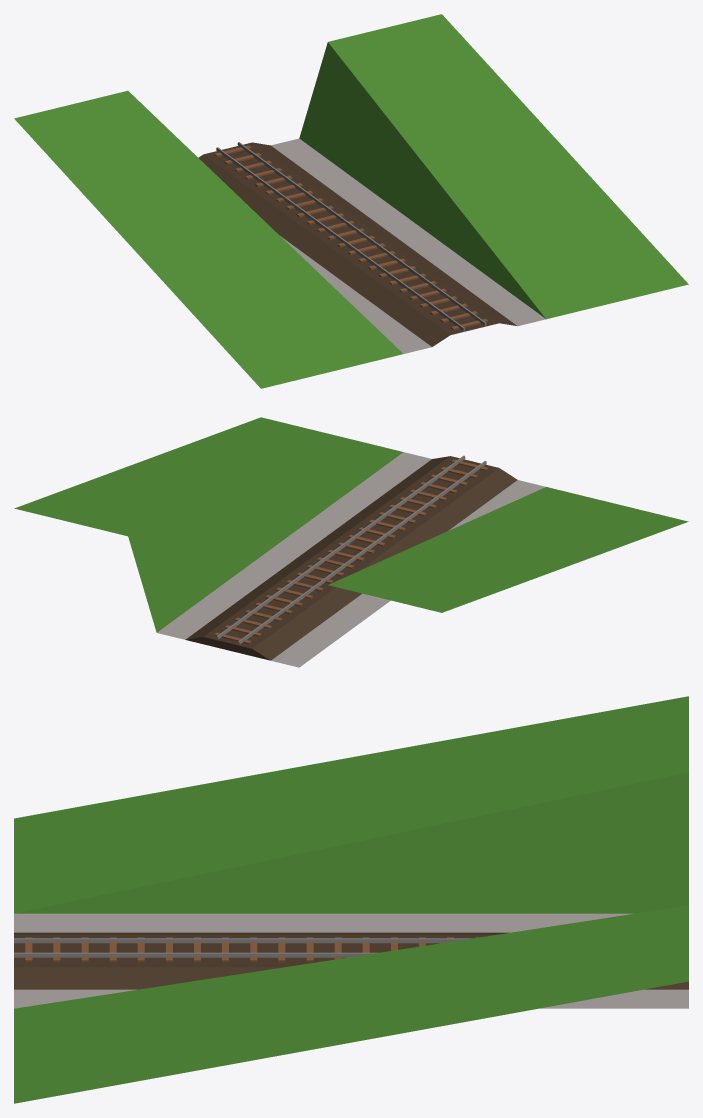
The model's file is tiles-nb-tile-rail-tunnel-entrance-nb.glb.
3 views of the same model, one above another, from view 1: azimuth 30°, elevation 25°; view 2: azimuth 150°, elevation 25°; view 3: azimuth 270°, elevation 25° (orthographic). The views are drawn at different scales.
Parts seen in each view (by area): view 1: tile-rail-tunnel-entrance-nb; view 2: tile-rail-tunnel-entrance-nb; view 3: tile-rail-tunnel-entrance-nb.
Boxes of the visible parts, <box> form: tile-rail-tunnel-entrance-nb: <box>14,14,688,388</box>; tile-rail-tunnel-entrance-nb: <box>14,417,688,667</box>; tile-rail-tunnel-entrance-nb: <box>14,696,688,1103</box>.
Bounding box in the file's own units: 30 × 6 × 30.
